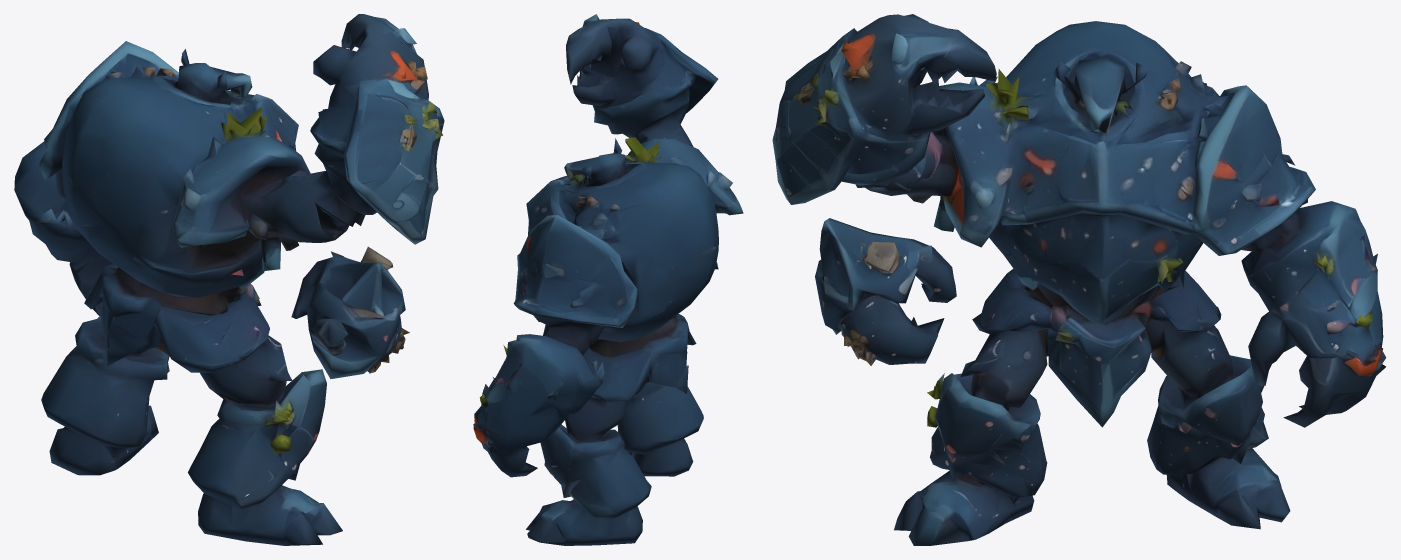
Rendered from river_crab_knight.glb.
3 views of the same model, side by side, from view 1: azimuth 30°, elevation 25°; view 2: azimuth 150°, elevation 25°; view 3: azimuth 270°, elevation 25° (orthographic). The views are drawn at different scales.
Visible parts, largest first — view 1: tripo_node_f3537c9e-4cec-4ea1-a2e4-4205a5d79869; view 2: tripo_node_f3537c9e-4cec-4ea1-a2e4-4205a5d79869; view 3: tripo_node_f3537c9e-4cec-4ea1-a2e4-4205a5d79869.
Boxes of the visible parts, <box> form: tripo_node_f3537c9e-4cec-4ea1-a2e4-4205a5d79869: <box>14,14,444,545</box>; tripo_node_f3537c9e-4cec-4ea1-a2e4-4205a5d79869: <box>473,14,743,545</box>; tripo_node_f3537c9e-4cec-4ea1-a2e4-4205a5d79869: <box>772,14,1386,545</box>.
Size of the model in its own units: 0.5355 by 0.9805 by 1.
Materials: 1 (1 with a texture image).
